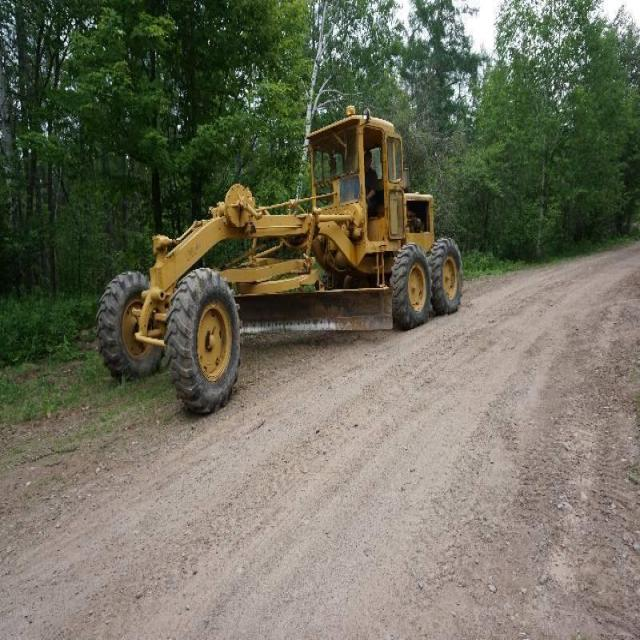Grader: (78, 100, 467, 416)
